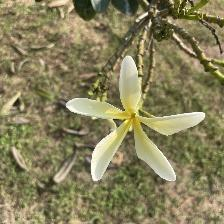champaka: (66, 57, 210, 188)
